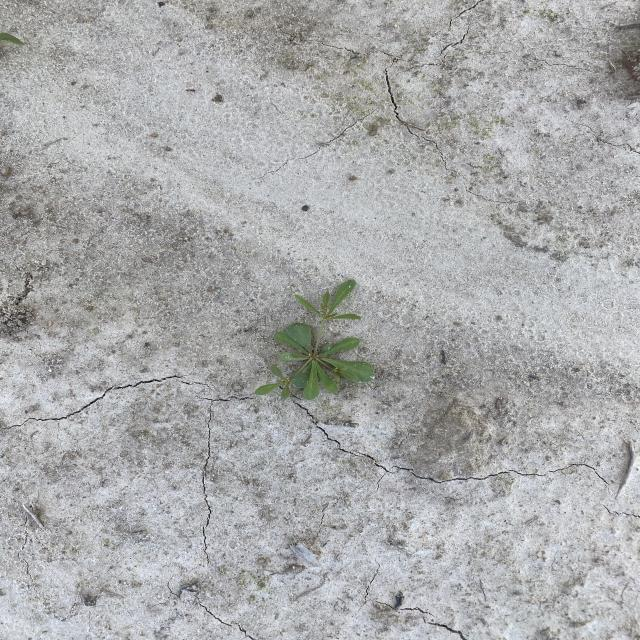Carpetweed: (251, 278, 379, 402)
